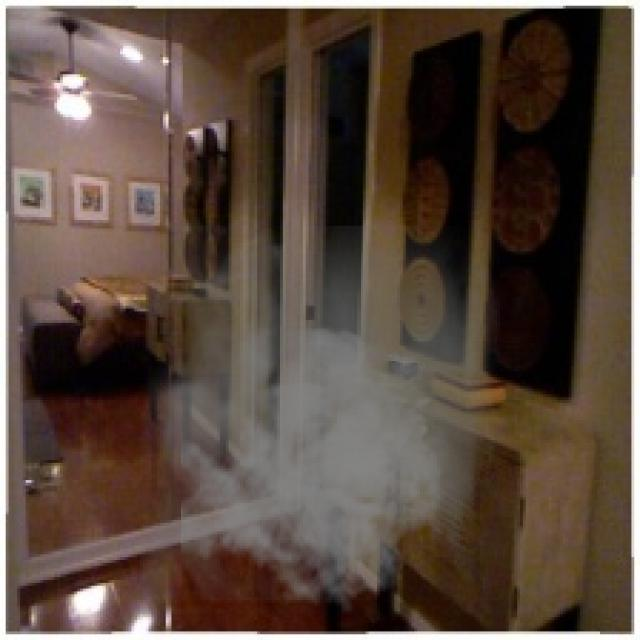smoke: (140, 226, 500, 614)
